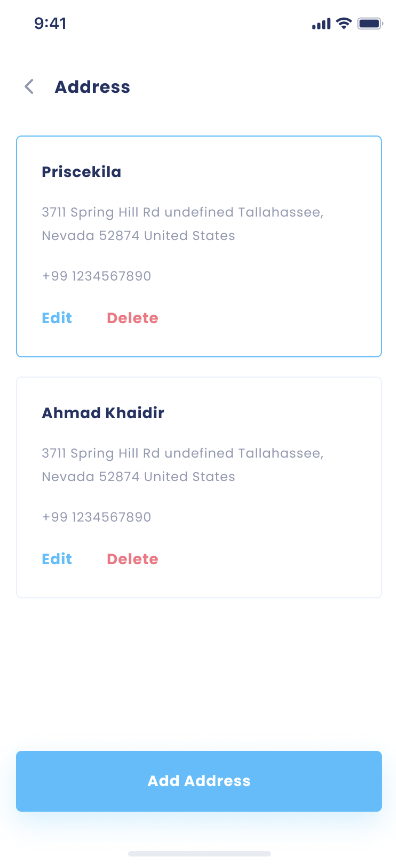Button: (13, 748, 383, 815)
